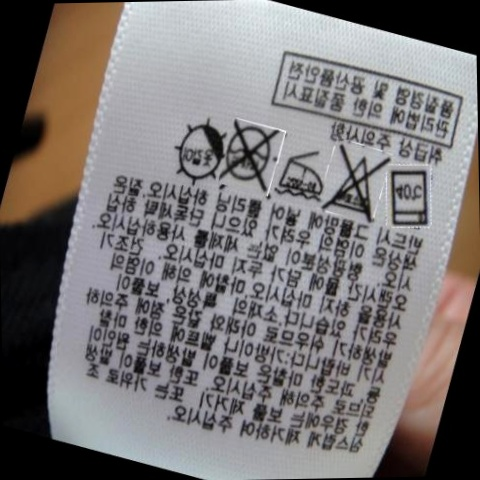40C: (387, 165, 436, 230)
DN_dry_clean: (228, 114, 273, 189)
iron_low: (278, 148, 325, 202)
line_dry_in_shade: (172, 116, 223, 183)
non_chlorine_bleach: (327, 141, 385, 220)
